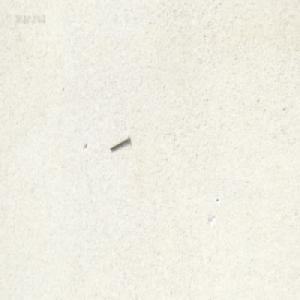Bolt: (109, 134, 130, 150)
